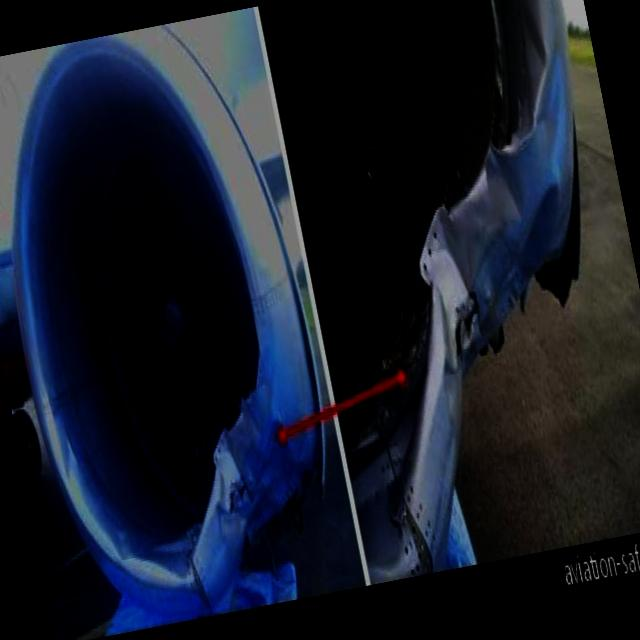dent: (510, 0, 562, 115), (482, 144, 528, 220)
